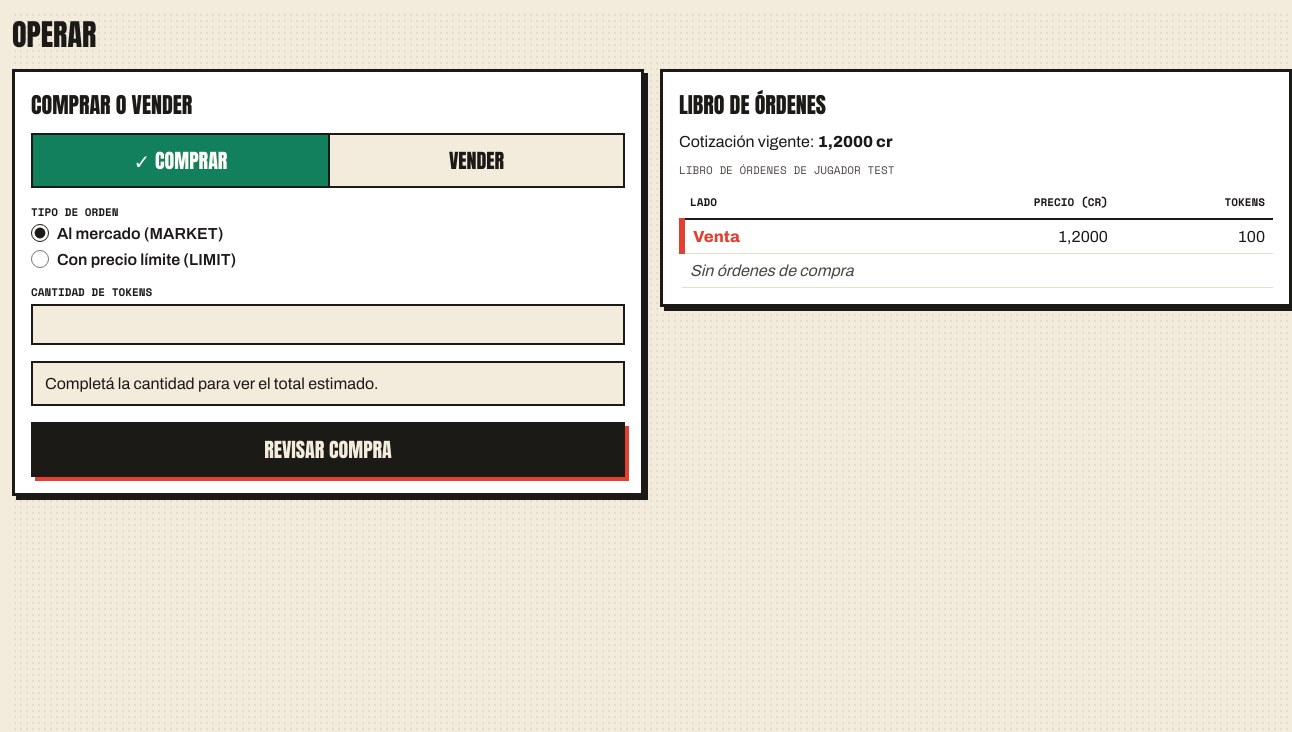
Scenario: TradePanel › validation and errors (US3) › shows the allowed range next to the LIMIT price
The image size is (1292, 732).
Click the radio button labelled "Con precio límite (LIMIT)" at (40, 259), box [31,250,49,268]
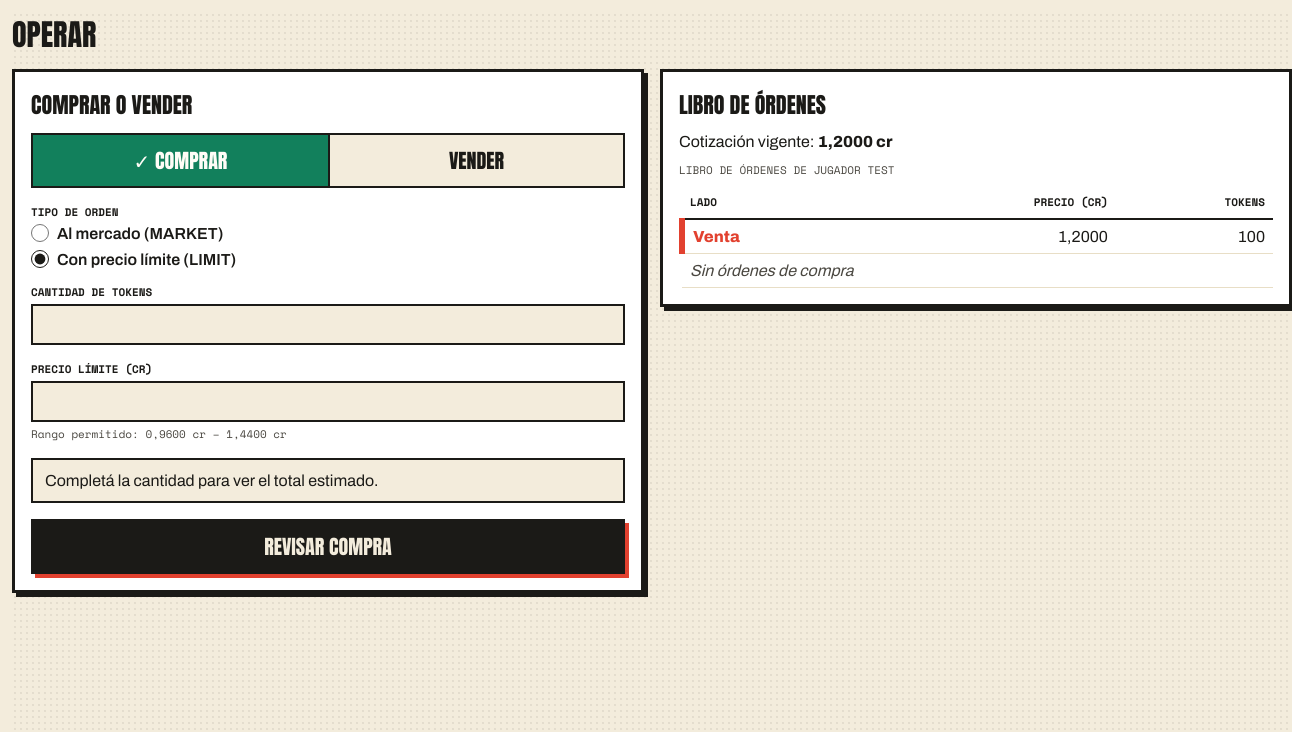
Now the text "Rango permitido: 0,9600 cr – 1,4400 cr" is shown, box [31,426,287,442]
